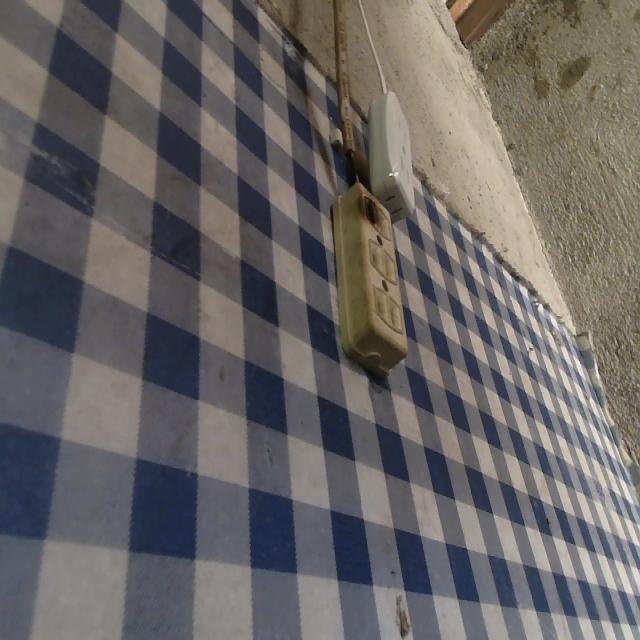-: (357, 182, 383, 235)
